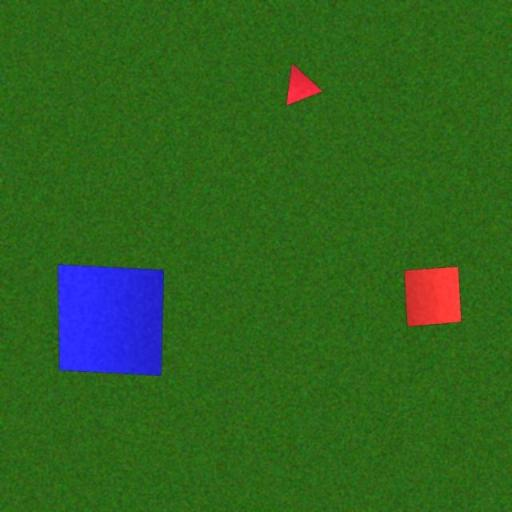BLUE_SQUARE: (57, 263, 165, 377)
RED_SQUARE: (404, 266, 462, 327)
